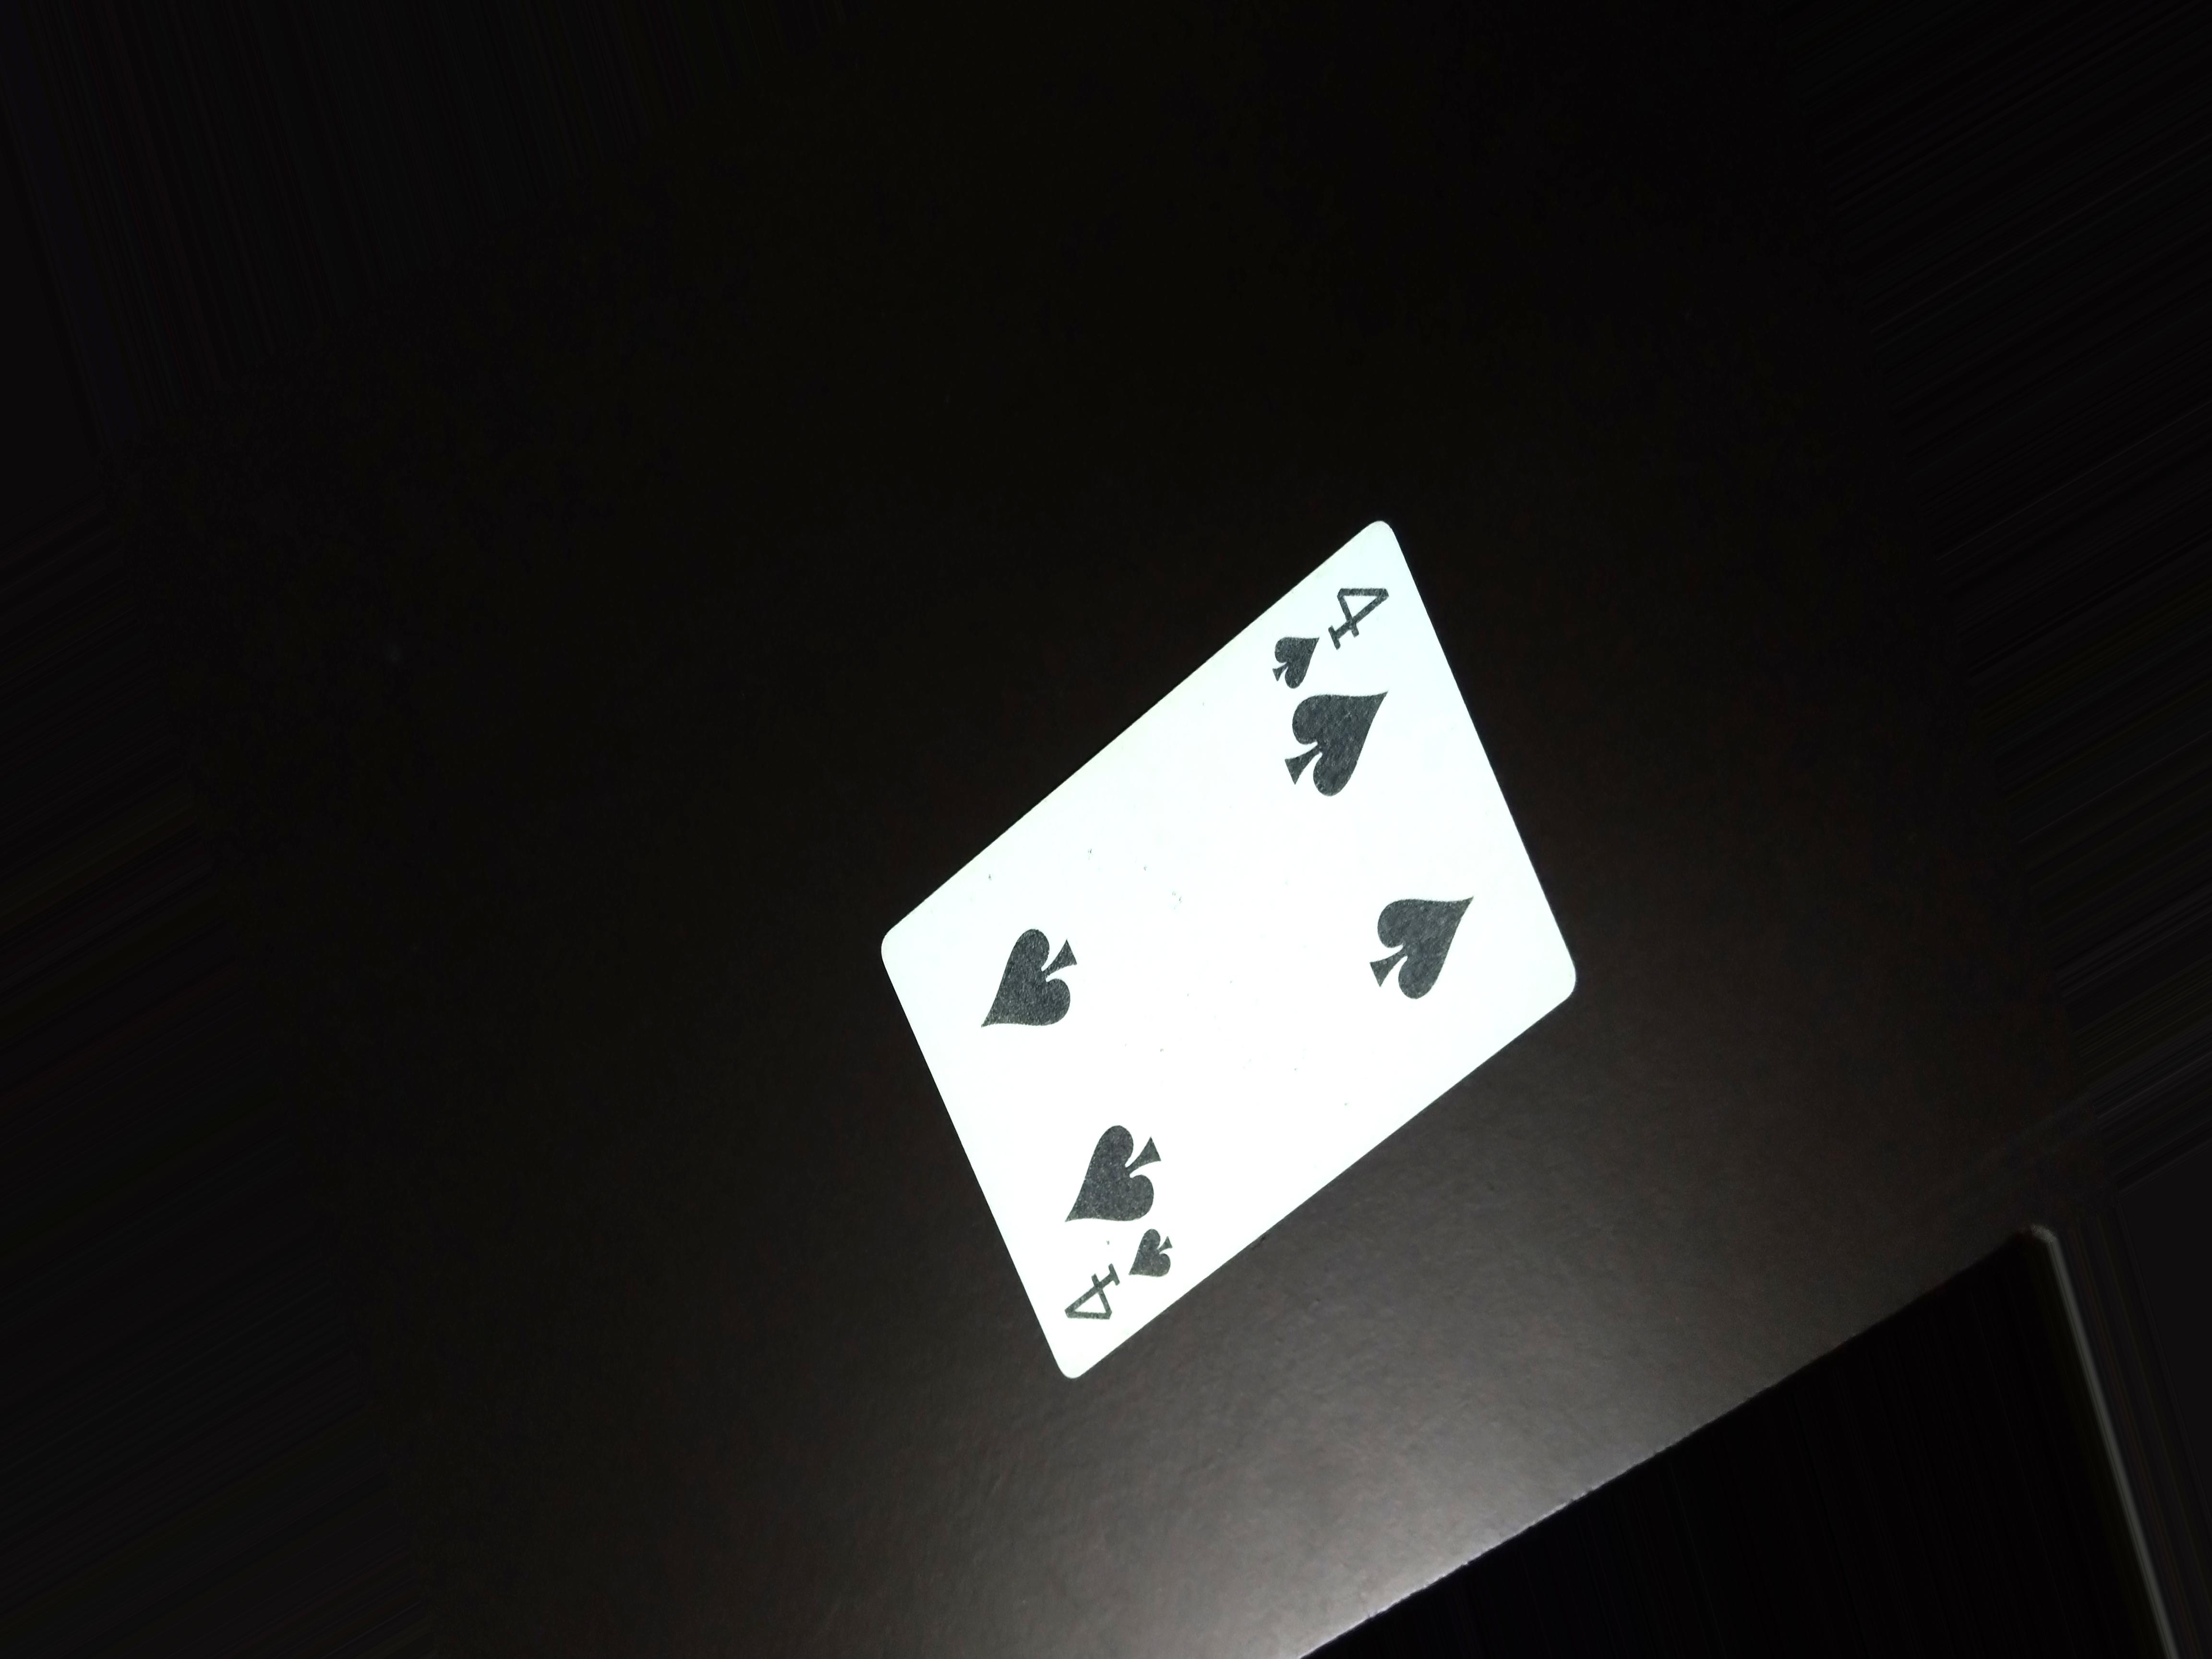4S: (1270, 575, 1404, 687)
